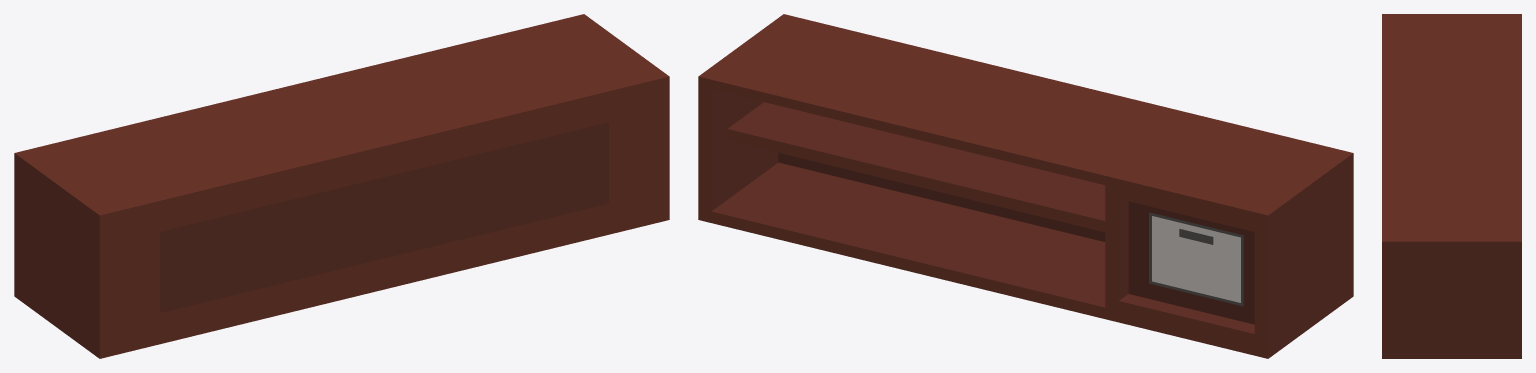
The model's file is Counter.glb.
3 views of the same model, side by side, from view 1: azimuth 30°, elevation 25°; view 2: azimuth 150°, elevation 25°; view 3: azimuth 270°, elevation 25° (orthographic). The views are drawn at different scales.
Visible parts, largest first — view 1: SI_Prop_Counter_01; view 2: SI_Prop_Counter_01; view 3: SI_Prop_Counter_01.
Boxes of the visible parts, bbox=[...] form: SI_Prop_Counter_01: bbox=[14, 14, 669, 358]; SI_Prop_Counter_01: bbox=[698, 14, 1353, 358]; SI_Prop_Counter_01: bbox=[1382, 14, 1521, 358].
Size of the model in its own units: 0.0511 by 0.0123 by 0.0133.
1 material, 1 textured.
